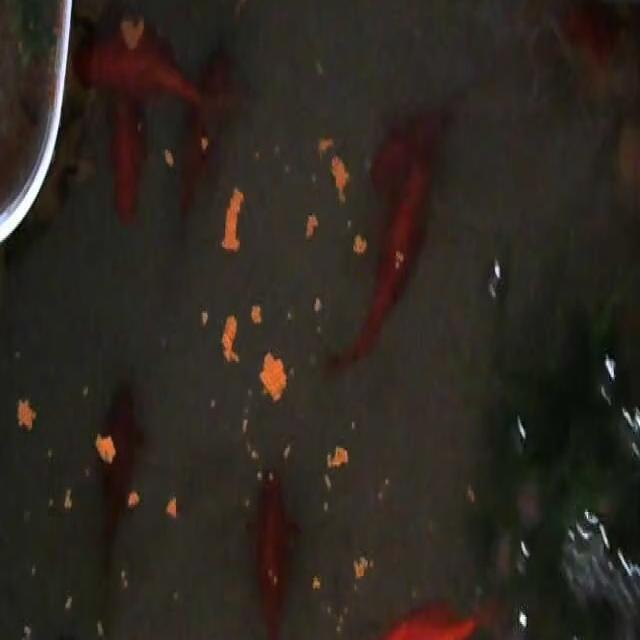fish: (350, 157, 451, 407), (72, 18, 214, 119), (360, 75, 472, 191), (180, 47, 251, 229), (93, 375, 146, 578), (251, 467, 300, 640), (362, 590, 507, 640), (110, 88, 144, 224)
